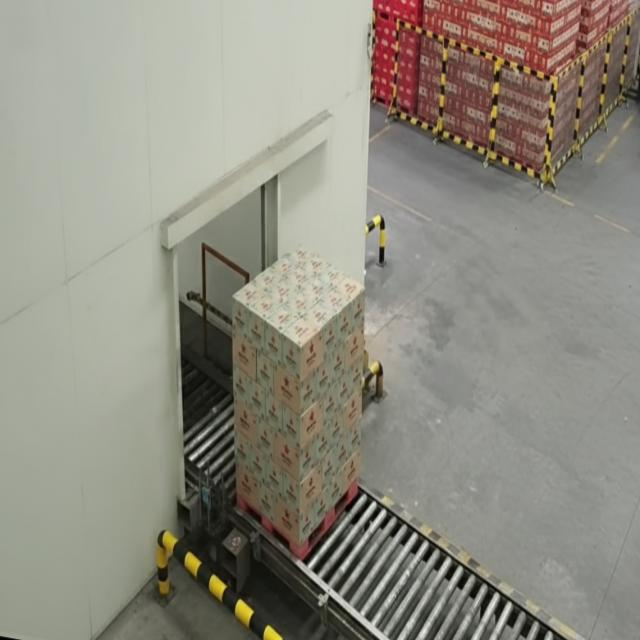pallet: (231, 236, 381, 578)
